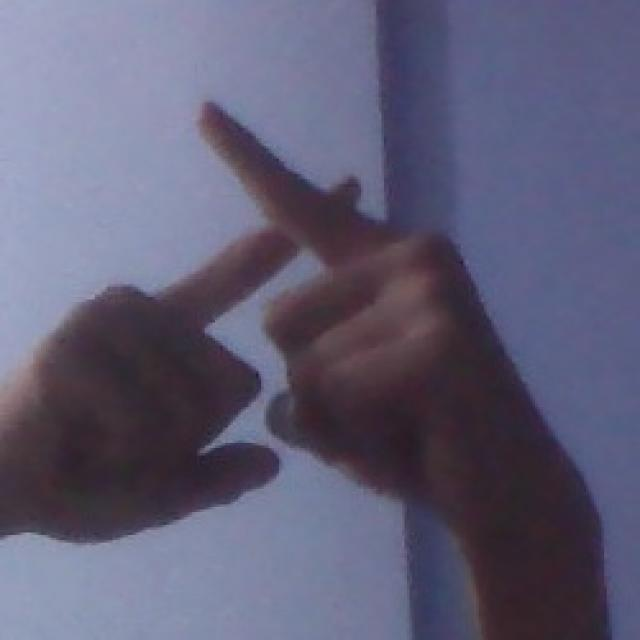Alphabet-X: (8, 145, 562, 558)
